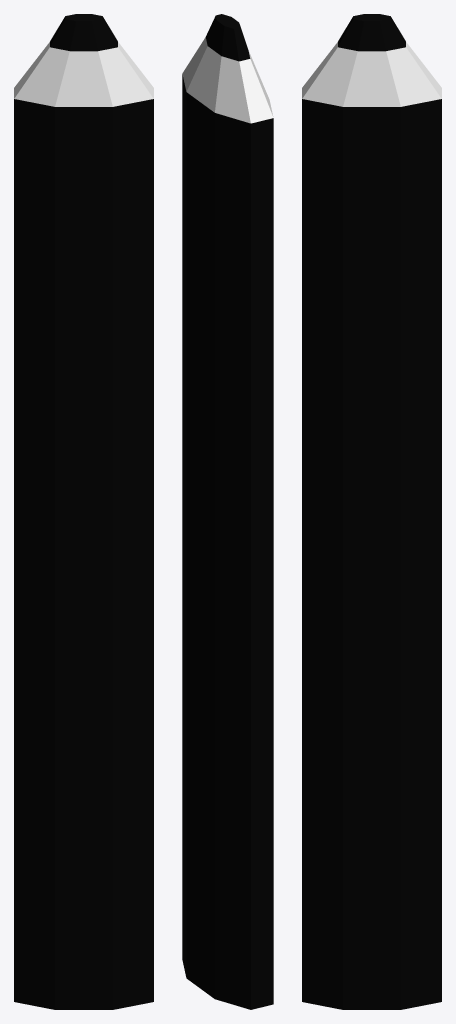
The model's file is pencil06.obj.
The picture shows the model from 3 angles, left to right: view 1: azimuth 90°, elevation 25°; view 2: azimuth 210°, elevation 25°; view 3: azimuth 270°, elevation 25°; orthographic projection.
Visible parts, largest first — view 1: Cylinder_Cylinder.003; view 2: Cylinder_Cylinder.003; view 3: Cylinder_Cylinder.003.
Part boxes in pixels (x1,y1,x2,y2): Cylinder_Cylinder.003: [14, 14, 153, 1009]; Cylinder_Cylinder.003: [182, 14, 273, 1009]; Cylinder_Cylinder.003: [302, 14, 441, 1009].
Bounding box in the file's own units: 0.00656 × 0.11 × 0.0142.
1 material, 1 textured.
